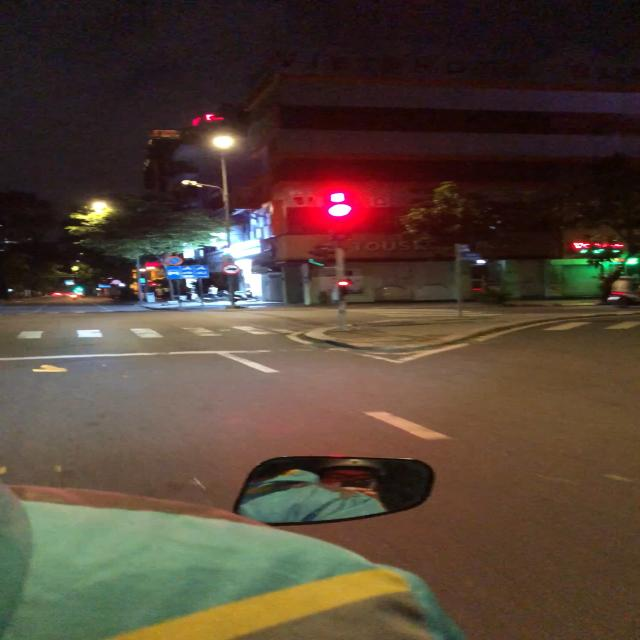Bien bao cam do xe: (164, 255, 184, 265)
Bien bao cam xe so-mi ro-mooc: (220, 262, 243, 276)
